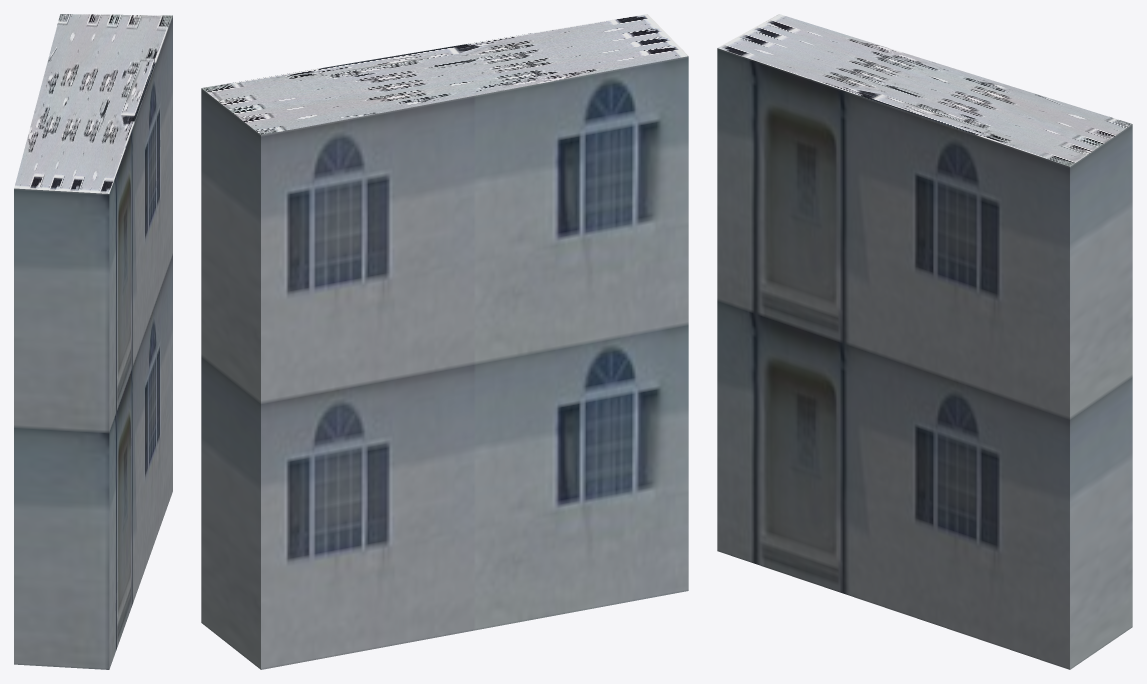
The model's file is ResTex__1149.fbx.
3 renders of one model, left to right at view 1: azimuth 30°, elevation 25°; view 2: azimuth 150°, elevation 25°; view 3: azimuth 270°, elevation 25°, orthographic. The views are drawn at different scales.
Parts seen in each view (by area): view 1: CityEngineMaterial_17_m, CityEngineMaterial_2_m; view 2: CityEngineMaterial_17_m, CityEngineMaterial_2_m; view 3: CityEngineMaterial_17_m, CityEngineMaterial_2_m.
Boxes of the visible parts, left/top/right/bottom form: CityEngineMaterial_17_m: left=14, top=16, right=172, bottom=669; CityEngineMaterial_2_m: left=14, top=14, right=172, bottom=193; CityEngineMaterial_17_m: left=201, top=56, right=688, bottom=669; CityEngineMaterial_2_m: left=201, top=14, right=688, bottom=134; CityEngineMaterial_17_m: left=717, top=48, right=1132, bottom=669; CityEngineMaterial_2_m: left=718, top=14, right=1132, bottom=166.
Bounding box in the file's own units: 3.91 × 6 × 4.49.
Materials: 2 (2 with a texture image).
